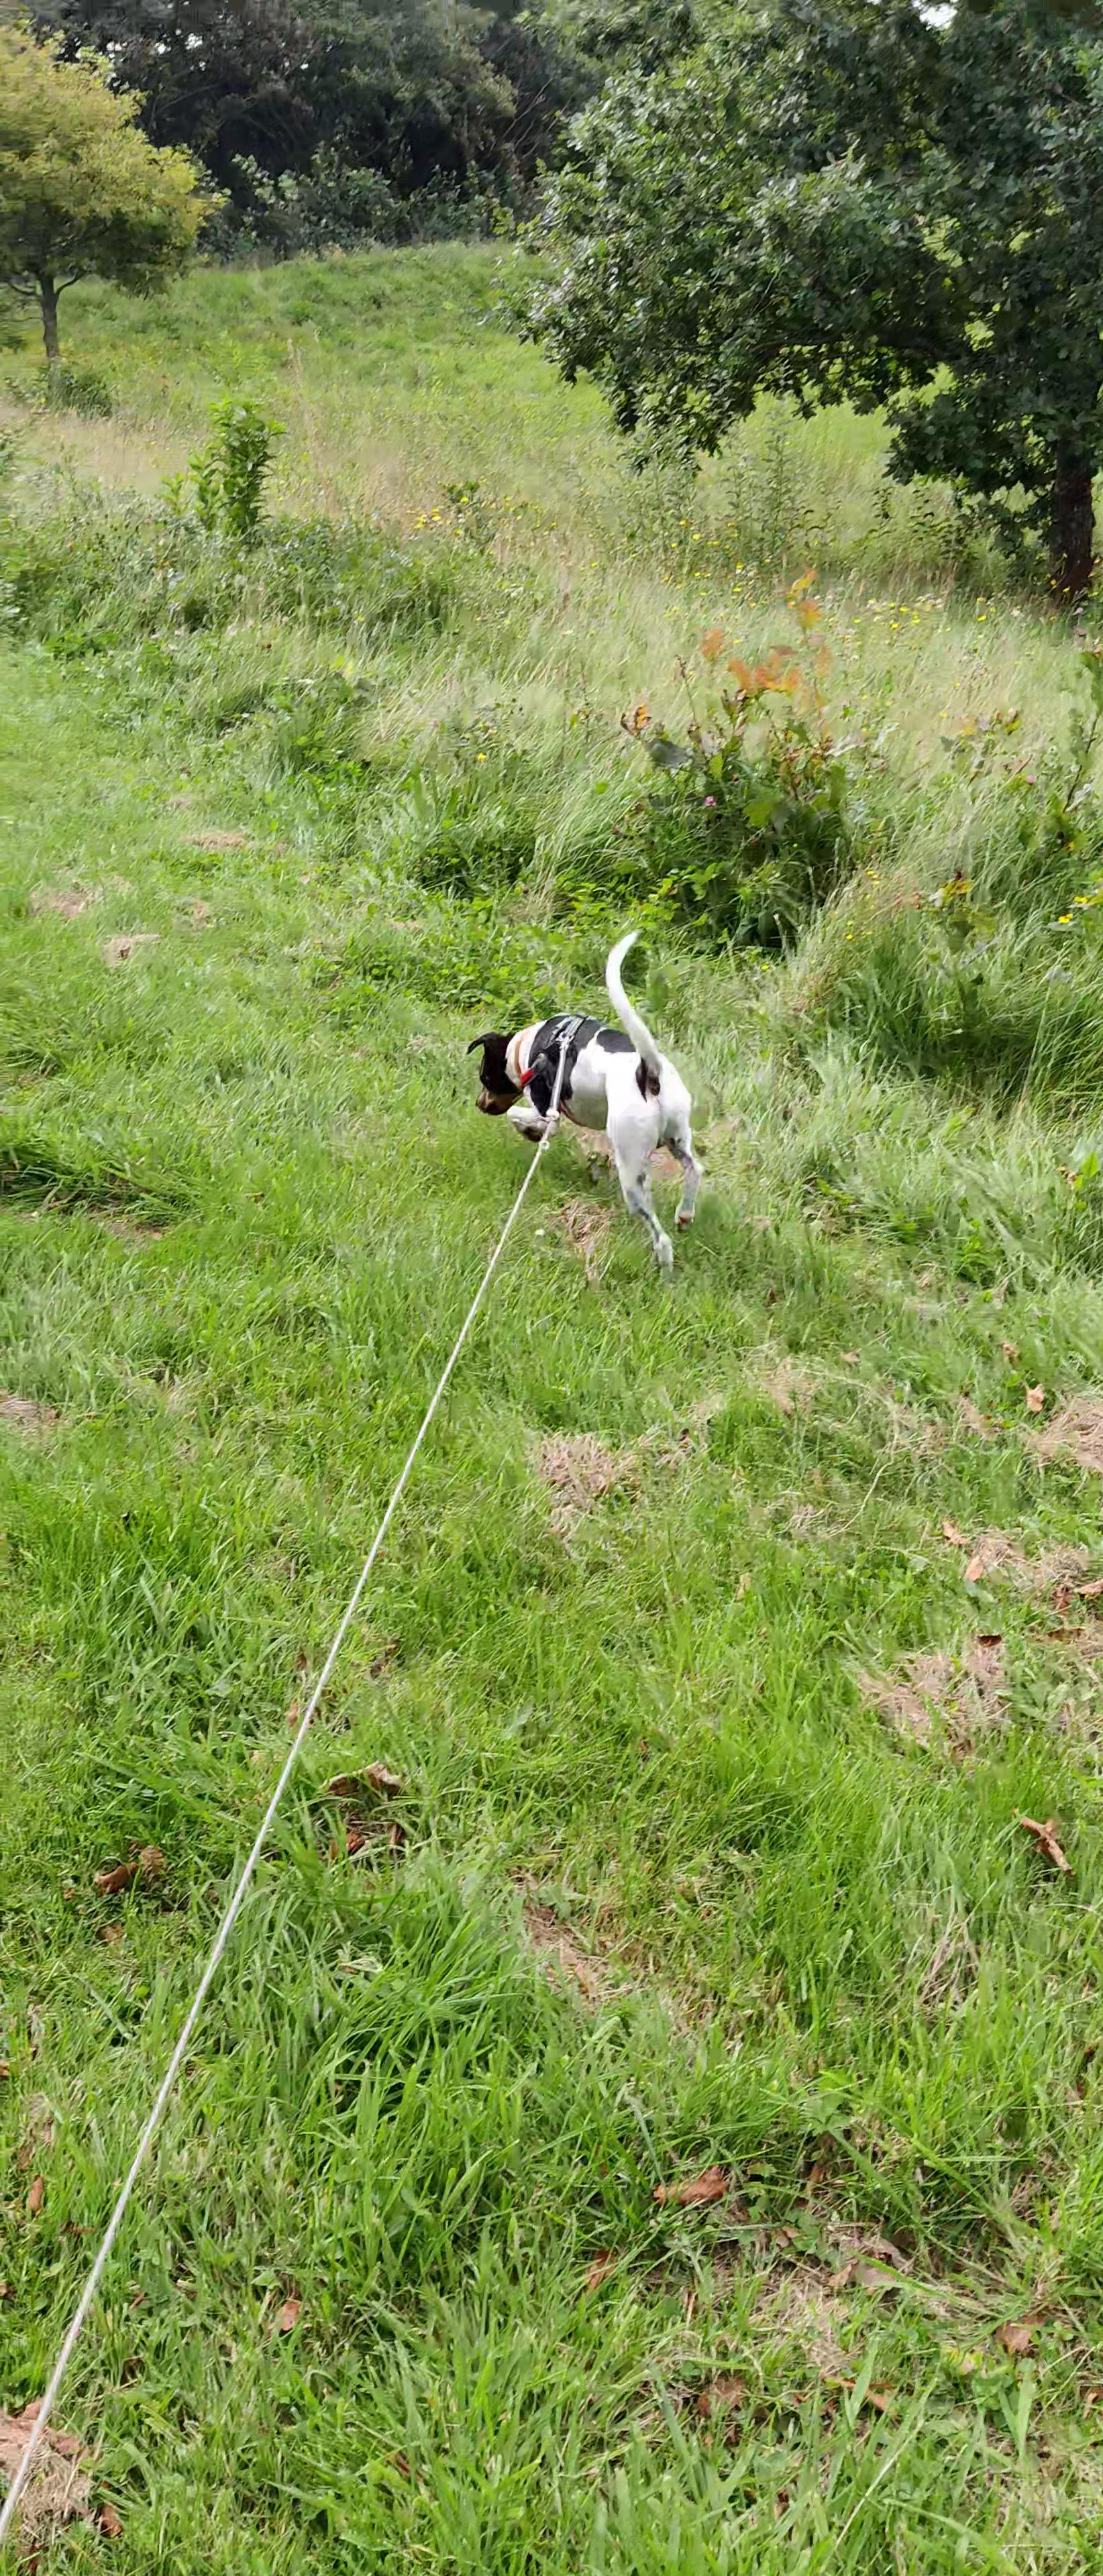Dog: (464, 922, 710, 1285)
